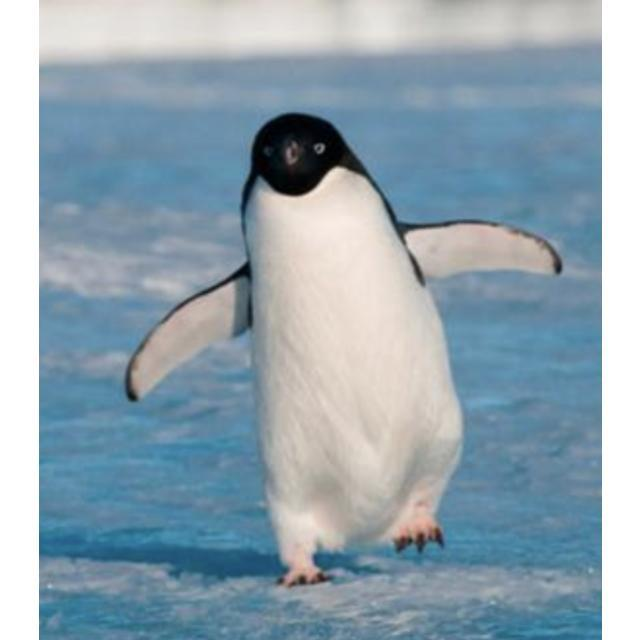penguin: (124, 113, 563, 590)
